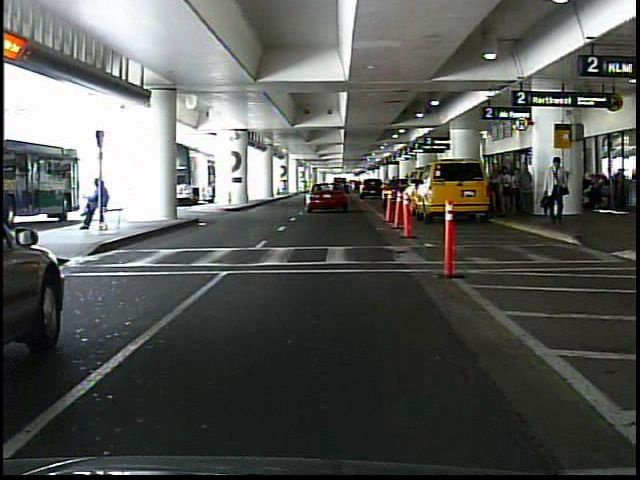person: (541, 157, 572, 226), (517, 163, 536, 219), (500, 165, 516, 218)
